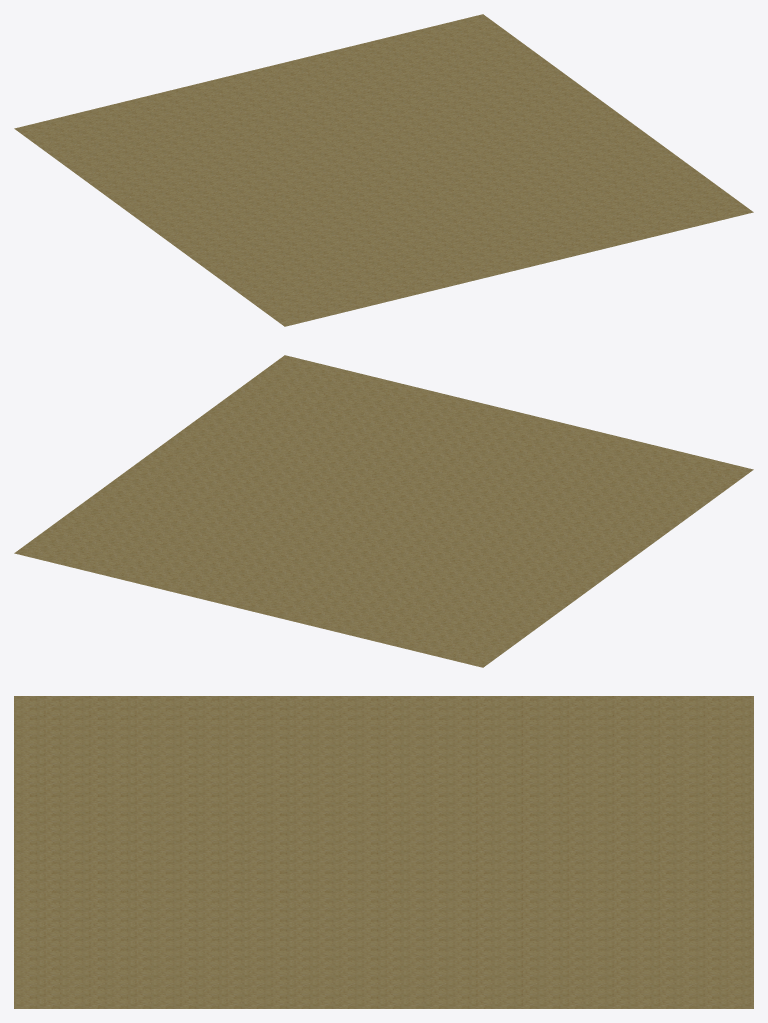
File: terrain2.obj
The picture shows the model from 3 angles, top to bottom: view 1: azimuth 30°, elevation 25°; view 2: azimuth 150°, elevation 25°; view 3: azimuth 270°, elevation 25°; orthographic projection. The views are drawn at different scales.
Parts seen in each view (by area): view 1: Plane; view 2: Plane; view 3: Plane.
Boxes of the visible parts, <box> form: Plane: <box>14,14,753,326</box>; Plane: <box>14,355,753,667</box>; Plane: <box>14,696,753,1008</box>.
Bounding box in the file's own units: 13.84 × 0 × 13.84.
1 material, 1 textured.
